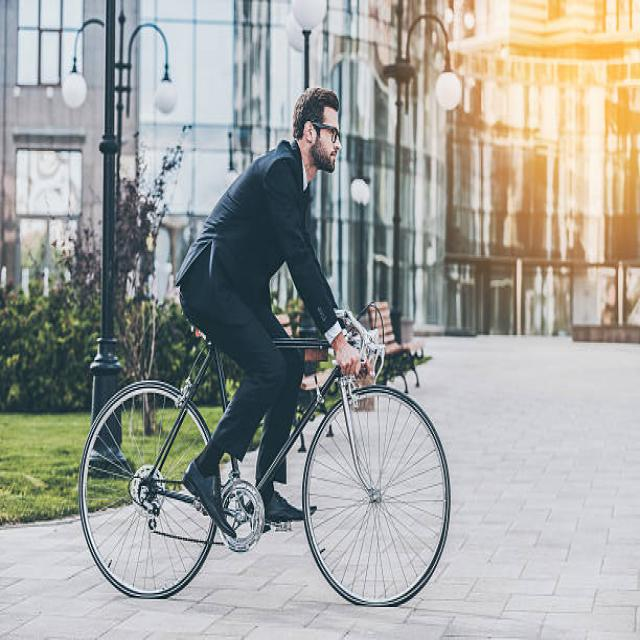bicycle: (80, 90, 450, 605)
